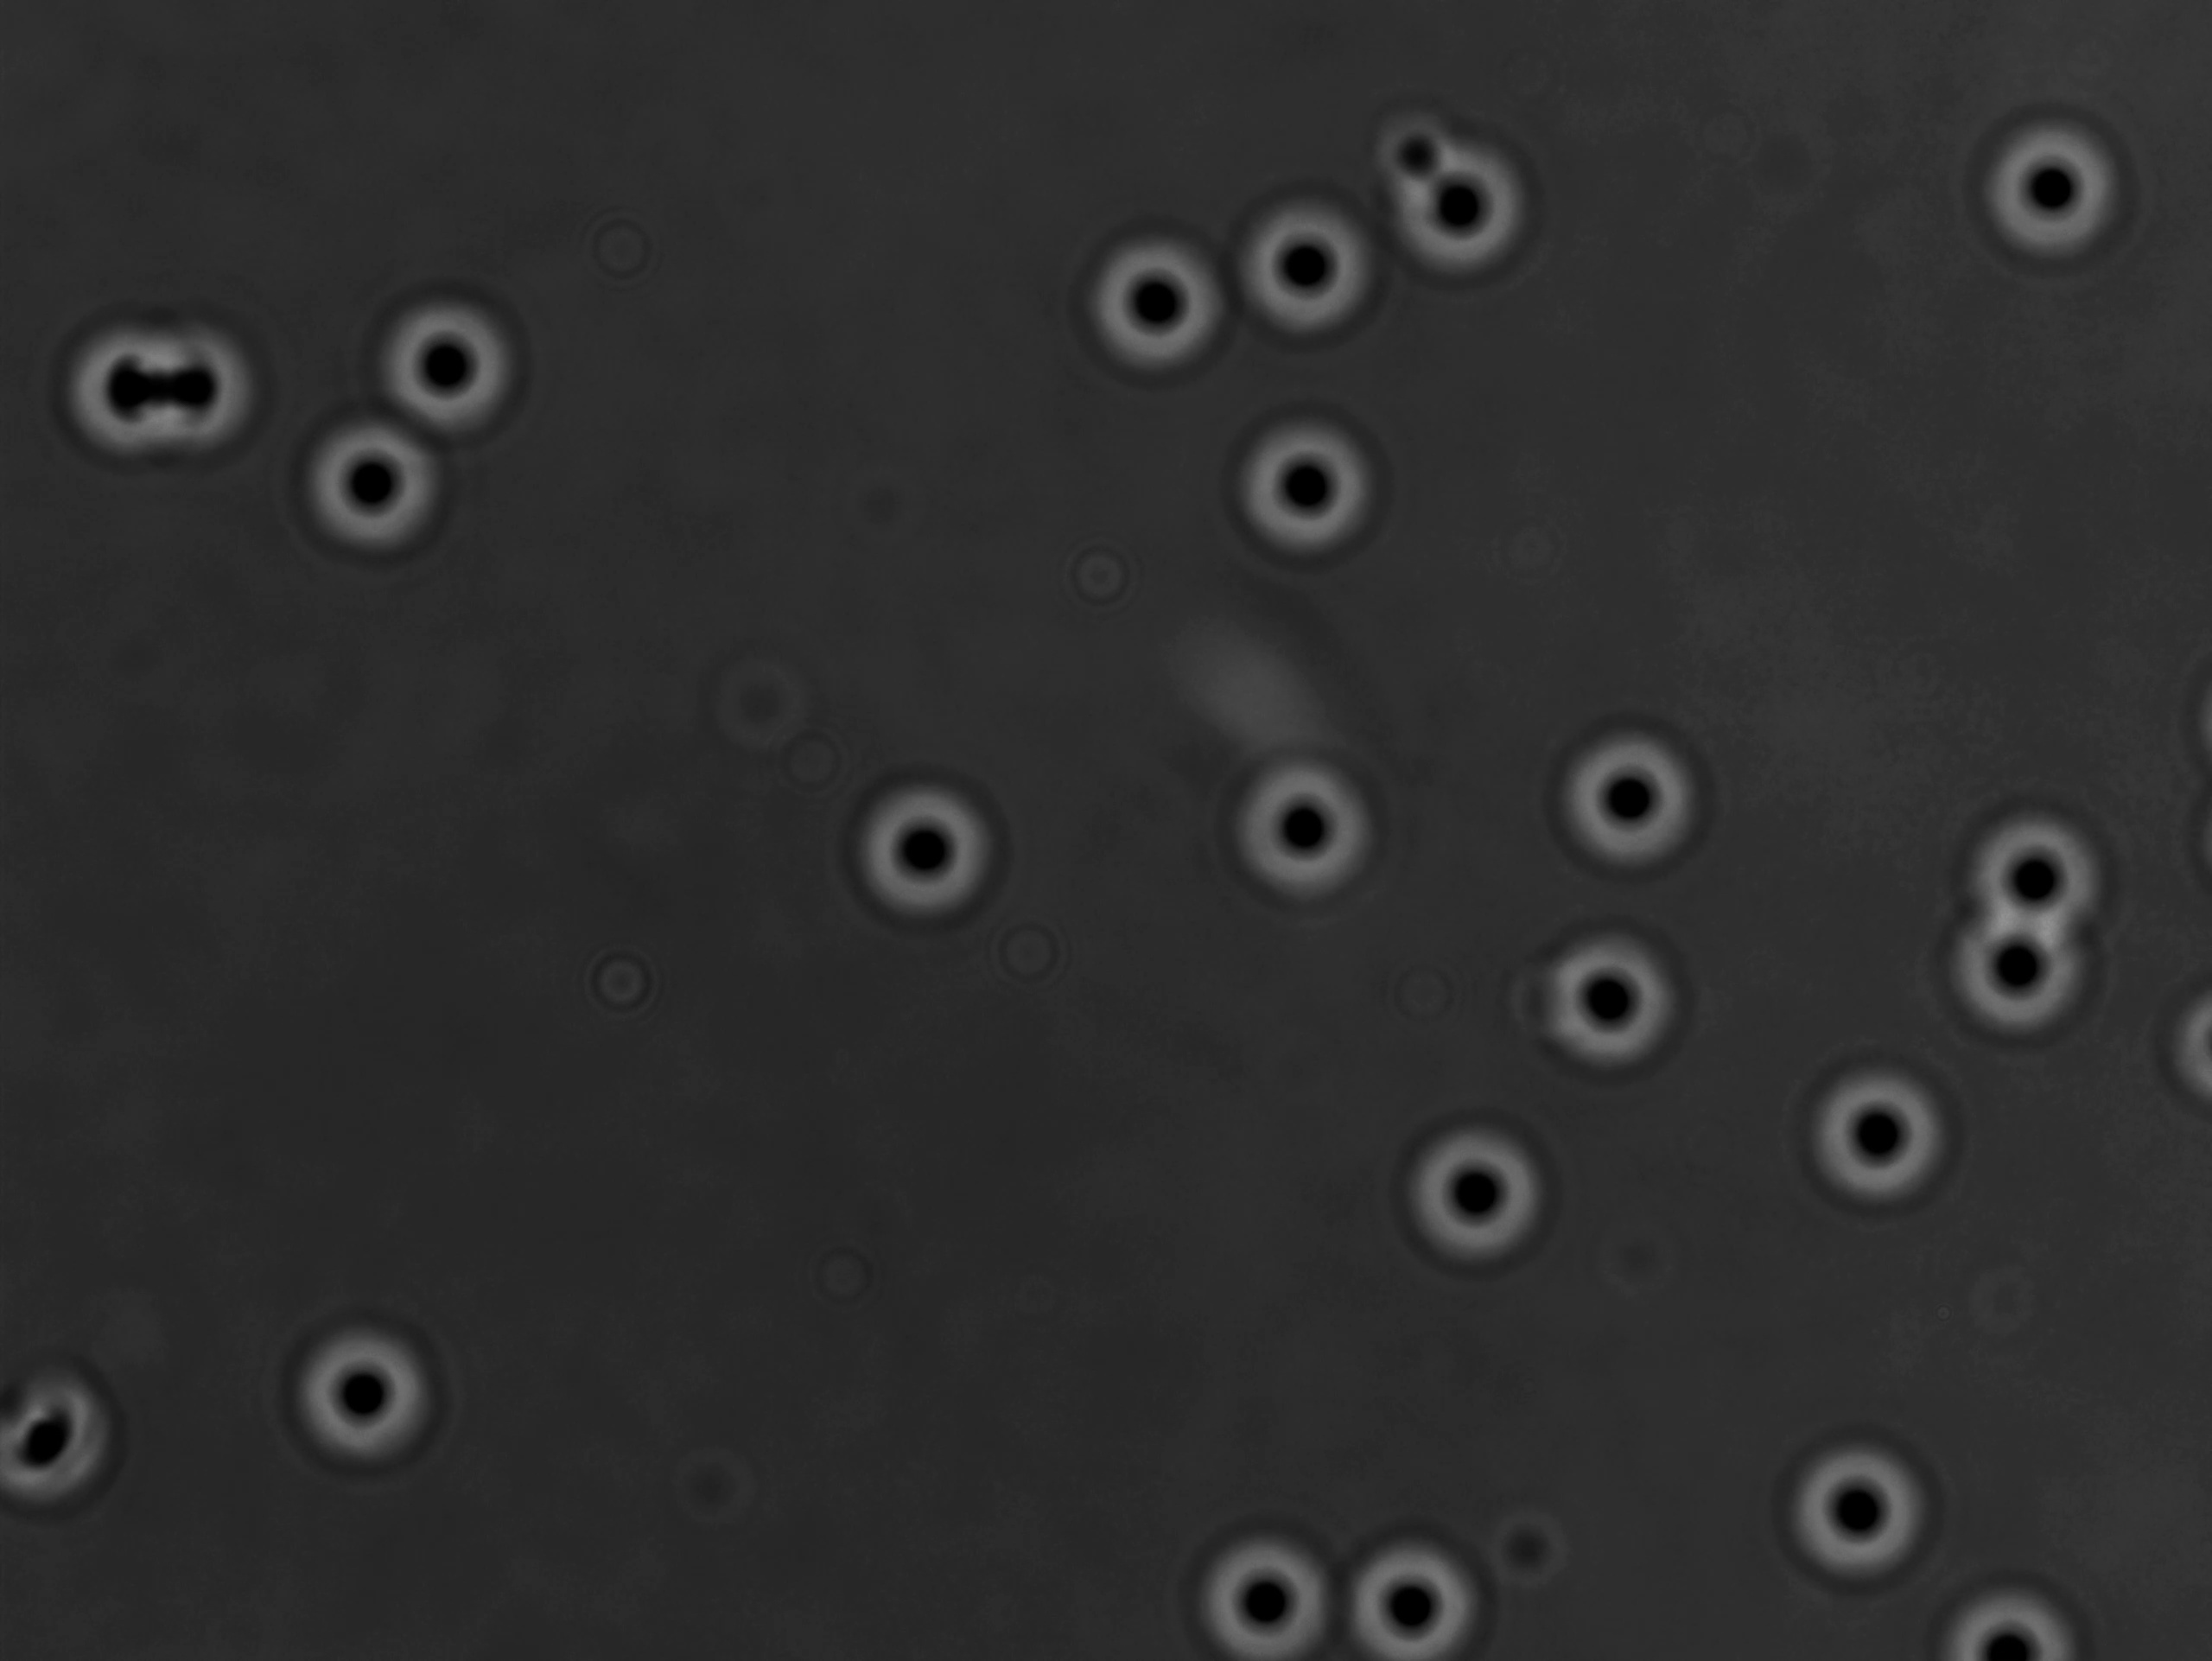depth:-40: (1535, 700, 1724, 892), (1762, 1415, 1949, 1591), (1394, 1096, 1568, 1282), (1371, 120, 1553, 297), (1214, 738, 1394, 913), (841, 769, 1022, 940), (281, 1307, 466, 1473), (1908, 881, 2097, 1043), (283, 396, 462, 564), (1949, 801, 2133, 961), (1516, 925, 1685, 1085), (1078, 216, 1240, 382), (1225, 180, 1383, 345), (1963, 115, 2133, 269), (1165, 1516, 1345, 1661), (1218, 415, 1380, 574), (1799, 1059, 1963, 1213), (373, 288, 520, 448), (1328, 1530, 1495, 1661)
